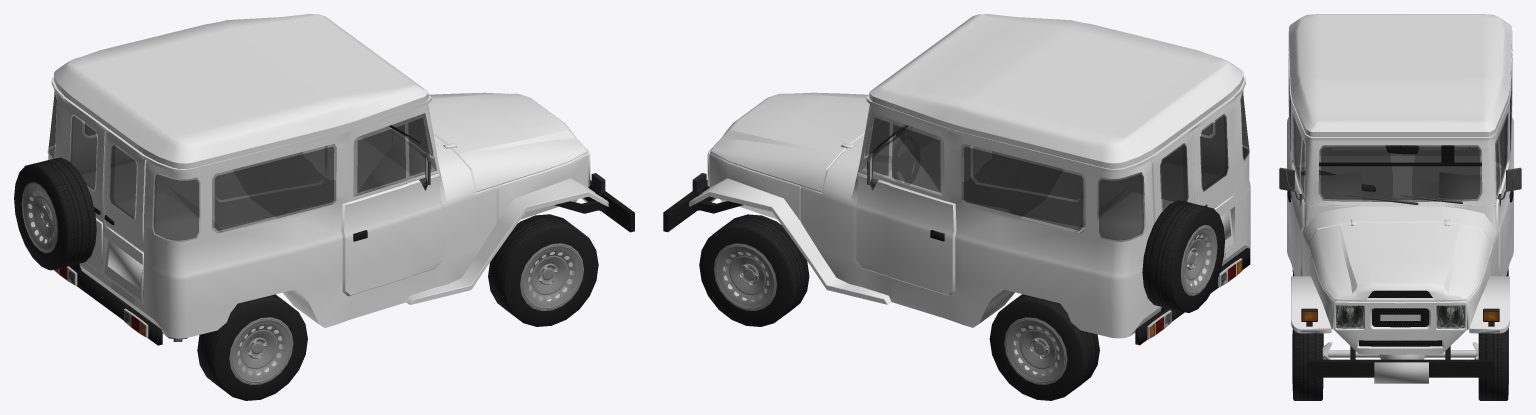
Rendered from Tropeiro.dae.
3 renders of one model, left to right at view 1: azimuth 30°, elevation 25°; view 2: azimuth 150°, elevation 25°; view 3: azimuth 270°, elevation 25°, orthographic. The views are drawn at different scales.
Visible parts, largest first — view 1: Body_Tropeiro, BodySEC_Tropeiro, Windows_Tropeiro, Hood_Tropeiro, TIRE_Tropeiro_FR, chassis_Tropeiro, TIRE_ExtraWheels, TIRE_Tropeiro_RR, Door_Tropeiro, RIM_Tropeiro_RR, RIM_Tropeiro_FR, Seat_Front_Tropeiro (+6 smaller); view 2: Body_Tropeiro, BodySEC_Tropeiro, Windows_Tropeiro, Hood_Tropeiro, TIRE_Tropeiro_FL, TIRE_ExtraWheels, chassis_Tropeiro, TIRE_Tropeiro_RL, RIM_Tropeiro_RL, RIM_Tropeiro_FL, Seat_Front_Tropeiro, Door_Tropeiro (+6 smaller); view 3: BodySEC_Tropeiro, Body_Tropeiro, Hood_Tropeiro, Windows_Tropeiro, chassis_Tropeiro, Bumper_front_Tropeiro, TIRE_Tropeiro_FR, TIRE_Tropeiro_FL, V_Farol_Tropeiro, licence_front_Tropeiro, axle_Front_Tropeiro, Door_Tropeiro (+6 smaller).
Boxes of the visible parts, left/top/right/bottom form: Body_Tropeiro: left=48, top=76, right=608, bottom=338; BodySEC_Tropeiro: left=54, top=14, right=428, bottom=168; Windows_Tropeiro: left=48, top=92, right=433, bottom=240; Hood_Tropeiro: left=411, top=92, right=587, bottom=192; TIRE_Tropeiro_FR: left=488, top=214, right=598, bottom=326; chassis_Tropeiro: left=48, top=90, right=577, bottom=323; TIRE_ExtraWheels: left=14, top=157, right=96, bottom=270; TIRE_Tropeiro_RR: left=197, top=294, right=307, bottom=400; Door_Tropeiro: left=103, top=127, right=424, bottom=303; RIM_Tropeiro_RR: left=229, top=317, right=293, bottom=384; RIM_Tropeiro_FR: left=520, top=243, right=583, bottom=311; Seat_Front_Tropeiro: left=233, top=152, right=335, bottom=217; Body_Tropeiro: left=689, top=76, right=1250, bottom=338; BodySEC_Tropeiro: left=869, top=14, right=1243, bottom=168; Windows_Tropeiro: left=865, top=92, right=1249, bottom=240; Hood_Tropeiro: left=710, top=92, right=885, bottom=192; TIRE_Tropeiro_FL: left=699, top=214, right=809, bottom=326; TIRE_ExtraWheels: left=1142, top=200, right=1224, bottom=312; chassis_Tropeiro: left=720, top=90, right=1249, bottom=323; TIRE_Tropeiro_RL: left=989, top=294, right=1099, bottom=400; RIM_Tropeiro_RL: left=1004, top=317, right=1067, bottom=384; RIM_Tropeiro_FL: left=713, top=243, right=776, bottom=310; Seat_Front_Tropeiro: left=962, top=151, right=1062, bottom=217; Door_Tropeiro: left=907, top=102, right=1234, bottom=252; BodySEC_Tropeiro: left=1289, top=14, right=1511, bottom=136; Body_Tropeiro: left=1287, top=31, right=1513, bottom=354; Hood_Tropeiro: left=1309, top=219, right=1491, bottom=300; Windows_Tropeiro: left=1289, top=75, right=1511, bottom=200; chassis_Tropeiro: left=1287, top=54, right=1513, bottom=346; Bumper_front_Tropeiro: left=1307, top=346, right=1493, bottom=377; TIRE_Tropeiro_FR: left=1292, top=329, right=1323, bottom=400; TIRE_Tropeiro_FL: left=1478, top=328, right=1508, bottom=400; V_Farol_Tropeiro: left=1336, top=305, right=1464, bottom=328; licence_front_Tropeiro: left=1374, top=362, right=1428, bottom=383; axle_Front_Tropeiro: left=1322, top=342, right=1478, bottom=359; Door_Tropeiro: left=1331, top=145, right=1400, bottom=206.
Size of what is drawn, in the model's own units: 4.13 by 1.97 by 2.09.
